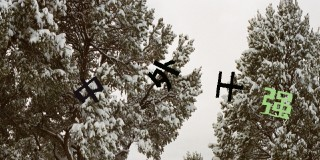中: (73, 75, 104, 104)
外: (145, 57, 180, 91)
干: (214, 69, 244, 102)
强: (260, 85, 294, 121)
